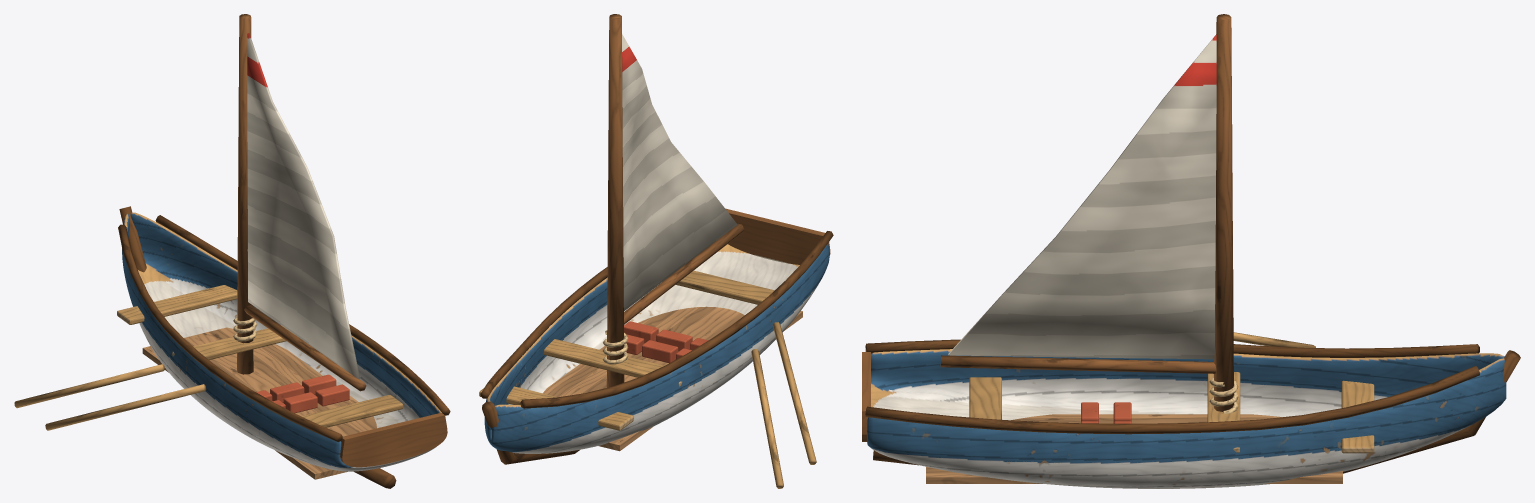
Rendered from stepa_boat.glb.
3 views of the same model, side by side, from view 1: azimuth 30°, elevation 25°; view 2: azimuth 150°, elevation 25°; view 3: azimuth 270°, elevation 25° (orthographic). The views are drawn at different scales.
Parts seen in each view (by area): view 1: Boat; view 2: Boat; view 3: Boat.
Part boxes in pixels (x1,y1,x2,y2): Boat: (14, 14, 450, 488); Boat: (479, 14, 833, 488); Boat: (862, 14, 1520, 488).
Size of the model in its own units: 2.53 by 3.41 by 4.42.
1 material, 1 textured.
